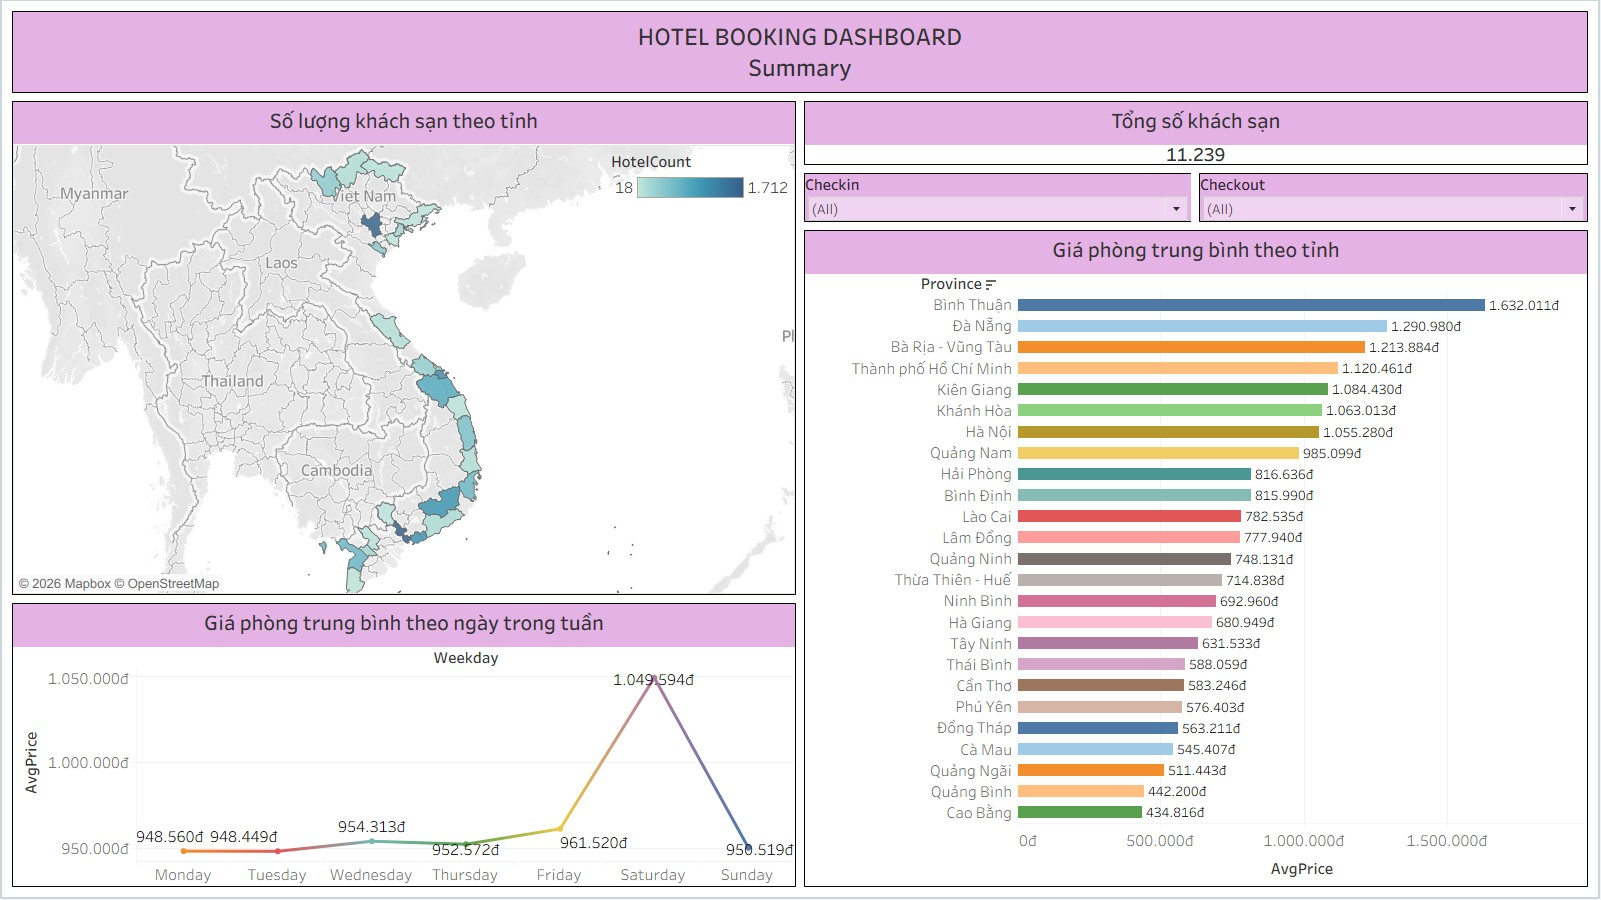

Layout of this report page (visuals, bound fields, positions):
{"tool":"tableau","page":{"name":"Summary","canvas":[1000,1000],"units":"permille","ordinal":1},"visuals":[{"type":"title","box":[5,9.9,990,111.7]},{"type":"worksheet","title":"Sheet 1","mark":"Multipolygon","box":[5,121.6,494.8,549.5]},{"type":"worksheet","title":"Sheet 3","mark":"Automatic","box":[499.8,121.6,495.2,79]},{"type":"legend","title":"Sheet 1","param":"[federated.01avzgi1olaq0z10yixzr1ttyp3h].[usr:Calculation_192528894452776963:qk]","box":[383.6,153.8,113.7,69.5]},{"type":"filter","title":"Sheet 2","param":"[federated.01avzgi1olaq0z10yixzr1ttyp3h].[none:Checkin:nk]","box":[499.8,200.6,247.3,62.1]},{"type":"filter","title":"Sheet 2","param":"[federated.01avzgi1olaq0z10yixzr1ttyp3h].[none:Checkout:nk]","box":[747.1,200.6,247.9,62.1]},{"type":"worksheet","title":"Sheet 2","mark":"Automatic","rows":["Province"],"cols":["Calculation_192528894452023296"],"box":[499.8,262.7,495.2,727.3]},{"type":"worksheet","title":"Sheet 4","mark":"Line","rows":["Calculation_192528894452023296"],"cols":["Weekday"],"box":[5,671.1,494.8,319]}]}

Visuals, with their boxes on the dashboard's canvas, which has no fixed pixel size, in thousandths of its width and height (x1, y1, x2, y2). These are canvas units, not pixel positions in the 1601x900 screenshot, which may show the page scaled, cropped or inside an application window:
title: (left=5, top=10, right=995, bottom=122)
"Sheet 1" worksheet (Multipolygon marks): (left=5, top=122, right=500, bottom=671)
"Sheet 3" worksheet: (left=500, top=122, right=995, bottom=201)
"Sheet 1" legend: (left=384, top=154, right=497, bottom=223)
"Sheet 2" filter: (left=500, top=201, right=747, bottom=263)
"Sheet 2" filter: (left=747, top=201, right=995, bottom=263)
"Sheet 2" worksheet: (left=500, top=263, right=995, bottom=990)
"Sheet 4" worksheet (Line marks): (left=5, top=671, right=500, bottom=990)
